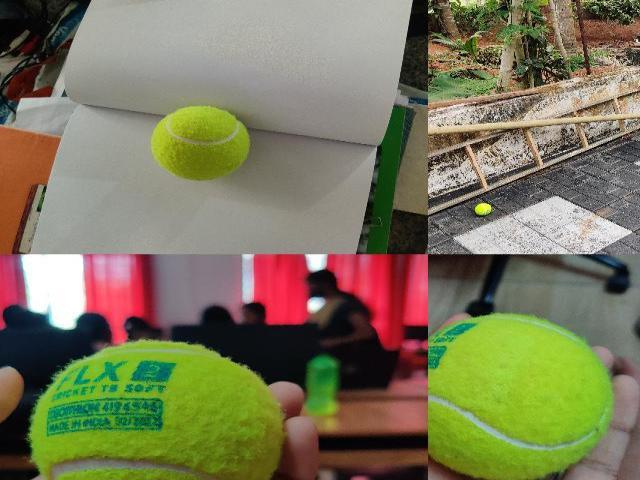tennis-ball: (29, 341, 283, 479), (428, 312, 618, 479), (150, 105, 250, 181), (474, 203, 492, 215)
